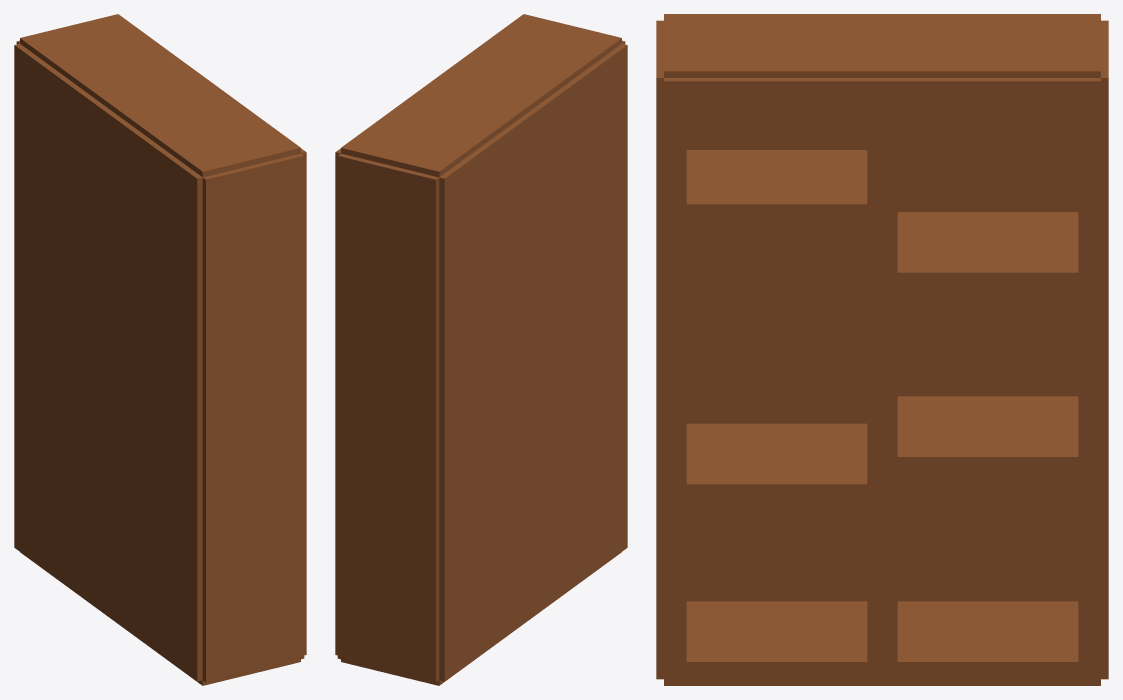
Rendered from SchoolPack-71-library shelf.obj.
3 renders of one model, left to right at view 1: azimuth 30°, elevation 25°; view 2: azimuth 150°, elevation 25°; view 3: azimuth 270°, elevation 25°, orthographic. The views are drawn at different scales.
Parts seen in each view (by area): view 1: library shelf; view 2: library shelf; view 3: library shelf.
Boxes of the visible parts, x1,y1,x2,y2 form: library shelf: (14, 14, 306, 685); library shelf: (335, 14, 627, 685); library shelf: (656, 14, 1108, 685).
Bounding box in the file's own units: 2 × 9 × 6.
Materials: 1 (1 with a texture image).
